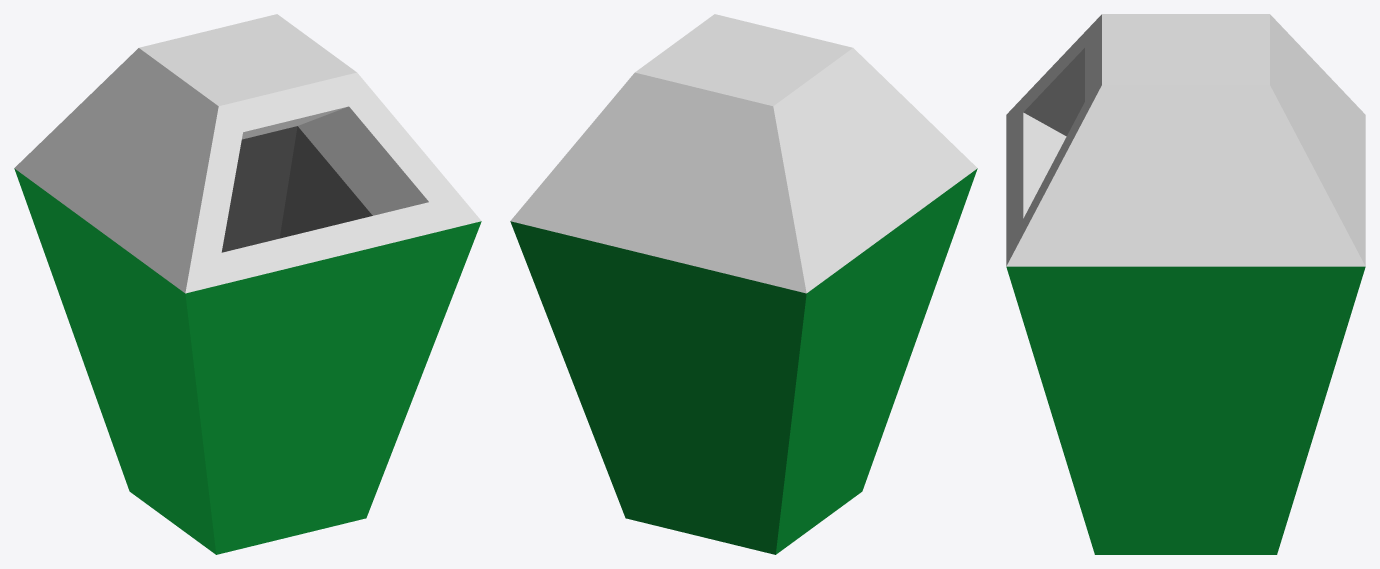
The model's file is TempatSampah.fbx.
3 renders of one model, left to right at view 1: azimuth 30°, elevation 25°; view 2: azimuth 150°, elevation 25°; view 3: azimuth 270°, elevation 25°, orthographic. The views are drawn at different scales.
Visible parts, largest first — view 1: Cube.002; view 2: Cube.002; view 3: Cube.002.
Part boxes in pixels (x1,y1,x2,y2): Cube.002: (14,14,481,554); Cube.002: (510,14,977,554); Cube.002: (1006,14,1365,554).
Bounding box in the file's own units: 200 × 287 × 200.
